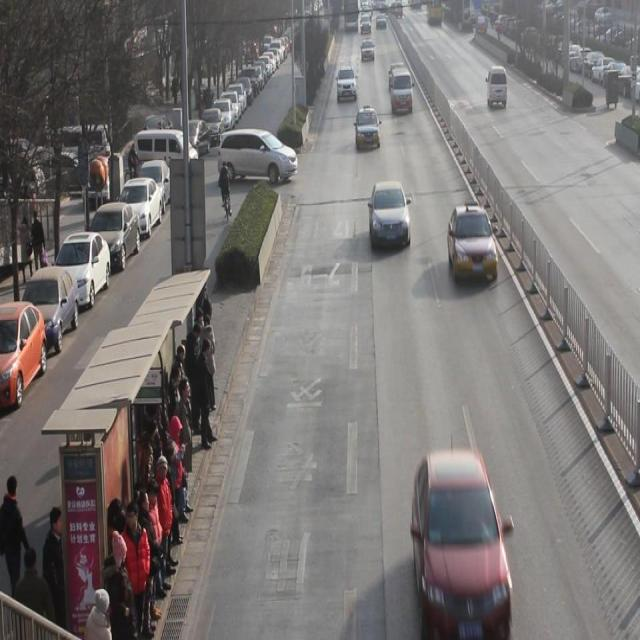car: (412, 449, 514, 624), (448, 204, 498, 283), (369, 178, 412, 248), (356, 104, 381, 148), (337, 63, 358, 101), (388, 63, 405, 95)
truck: (391, 65, 414, 115), (487, 63, 508, 109)
